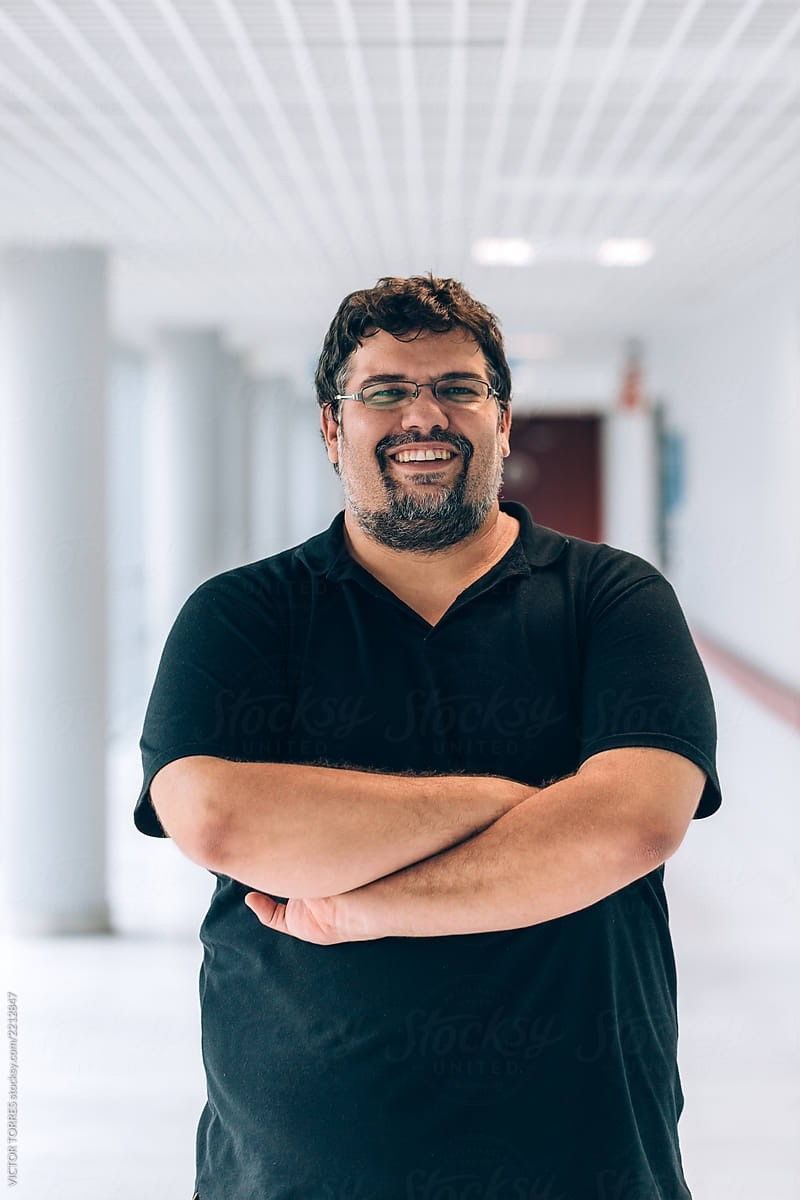face_no_mask: (326, 287, 513, 555)
